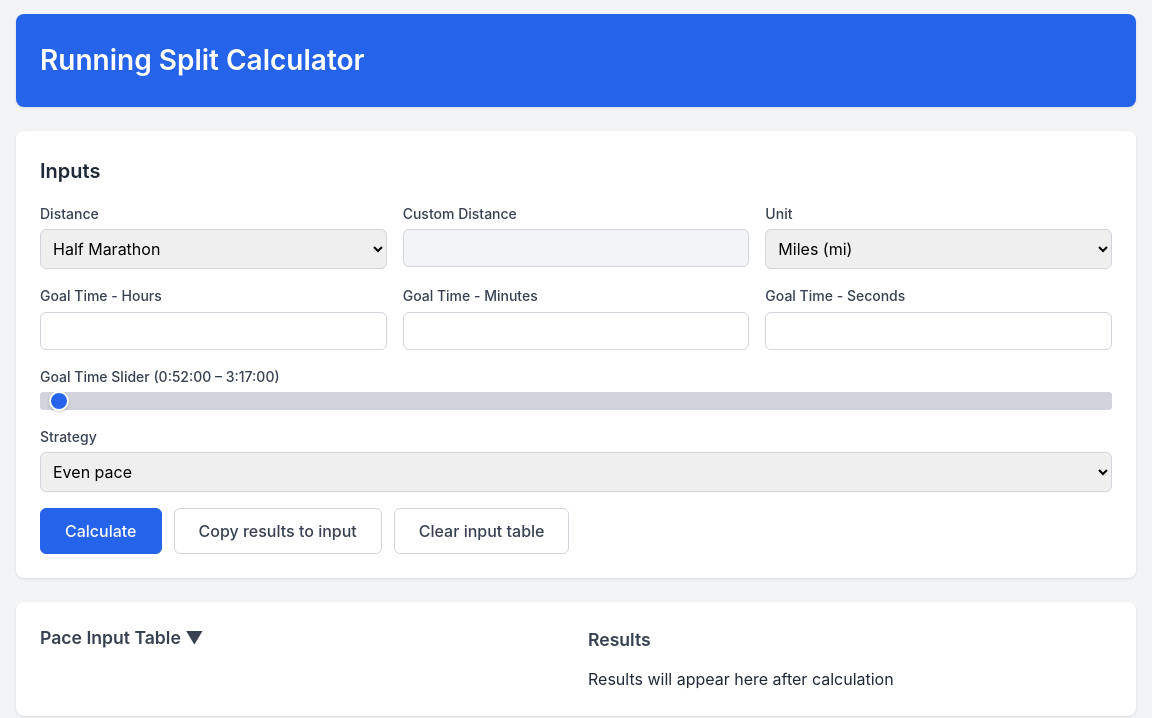
Test: UI Results and Error Display › should render results table when Calculate is clicked with valid inputs
Select "Kilometers (km)" in the dropdown labelled "Unit". click: (939, 249)
box: [765,229,1112,269]
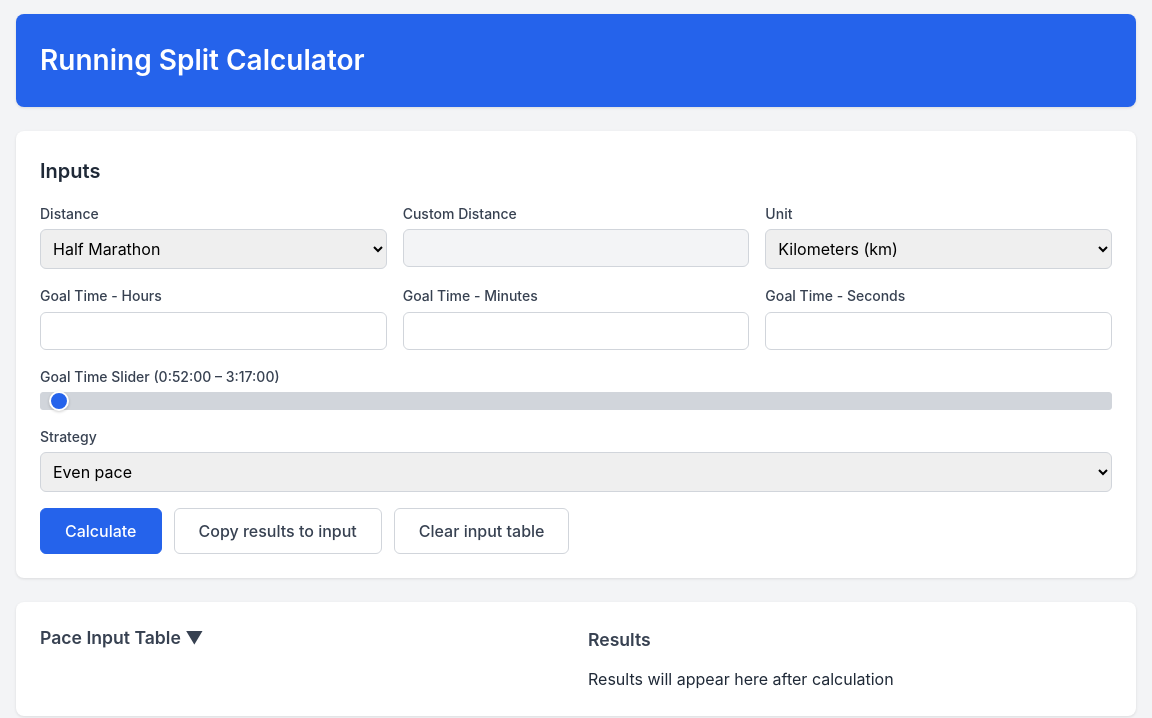
Select "5K" in the dropdown labelled "Distance". click: (213, 249)
box: [40,229,387,269]
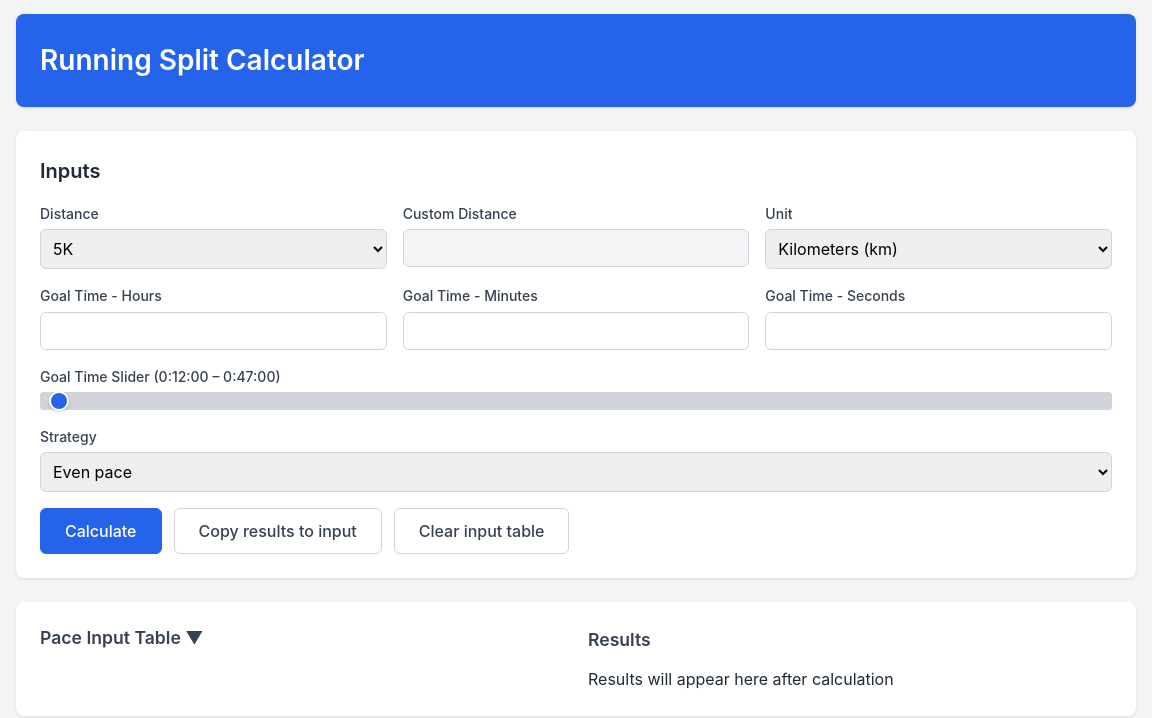
Type "25" into the number field labelled "Goal Time - Minutes". click: (576, 331)
box: [403,312,749,350]
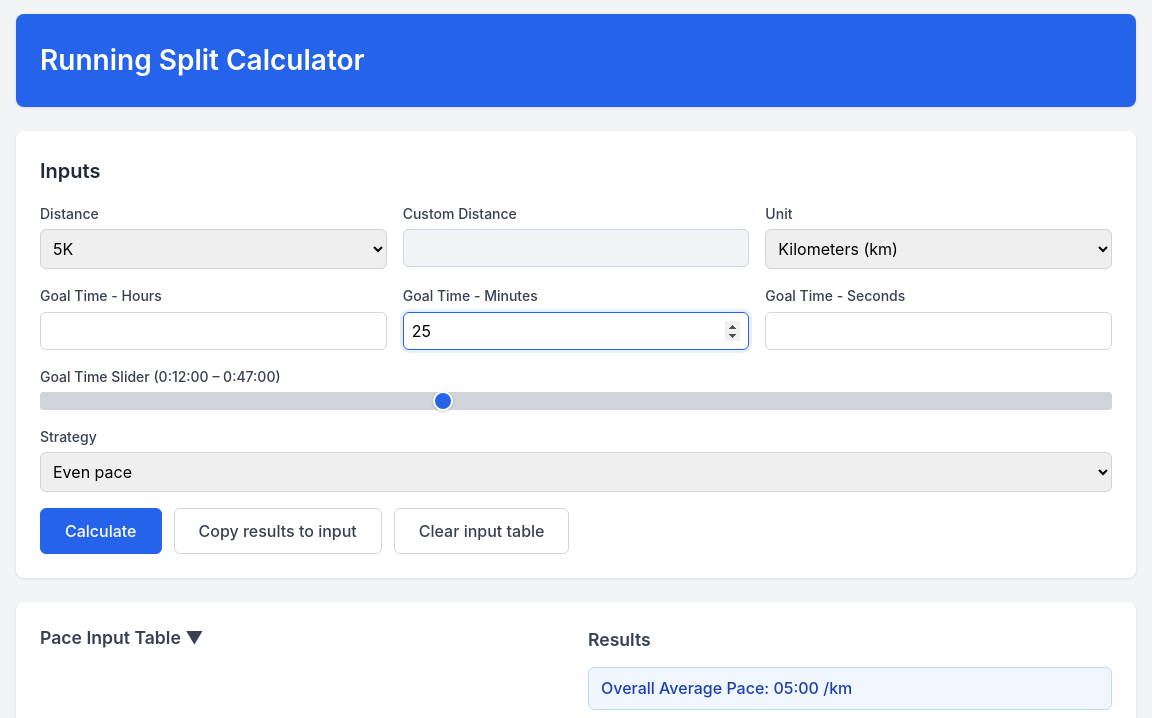
Click the button "Calculate". click: (101, 531)
box: [40,508,162,554]
(page scrolled)
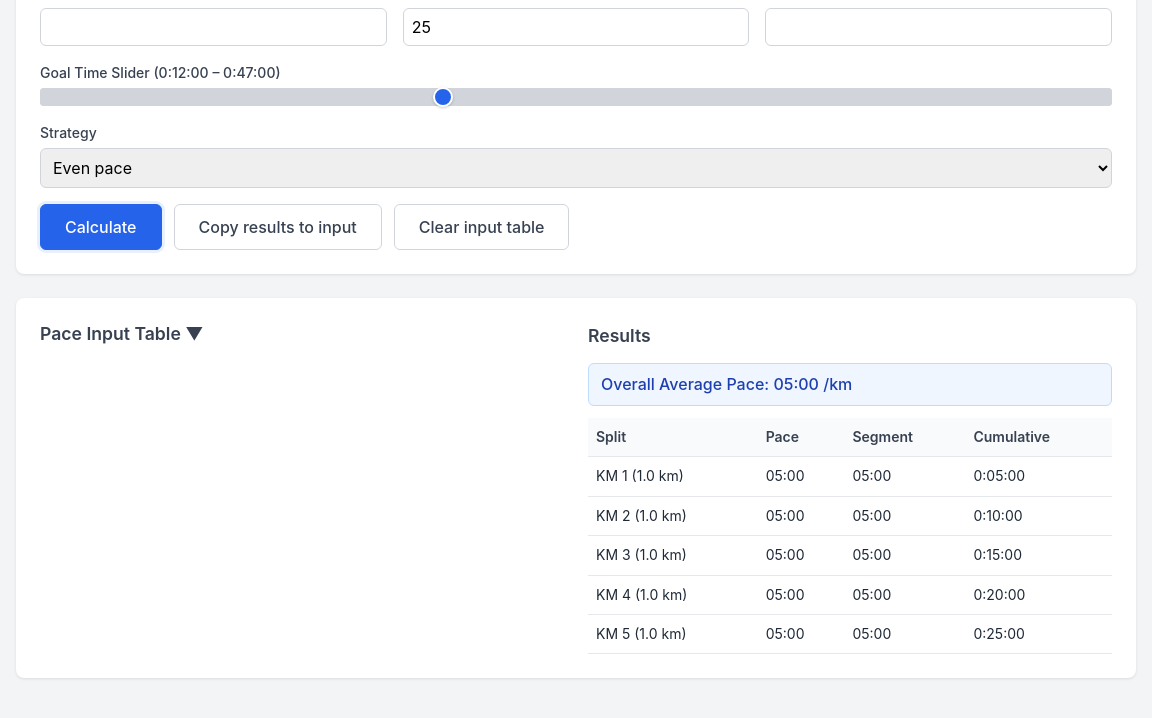
Expected: the table is shown, [588,418,1112,654]
Expected: the cell "KM 1 (1.0 km)" is shown, [588,457,758,496]
Expected: the 1st cell "05:00" is shown, [758,457,844,496]
